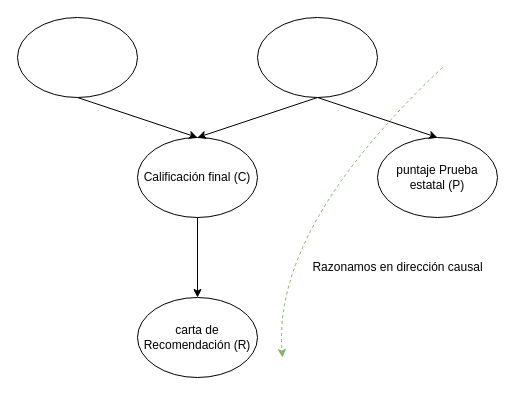
Some shapes in this 515 by 395 pixel diagram are drawn without their labels. Here are the shapes that lost their labels. From the top down, the centre of each, then its label:
At pixel 77 57: "Dificultad (D)".
At pixel 317 57: "Inteligencia (I)".
